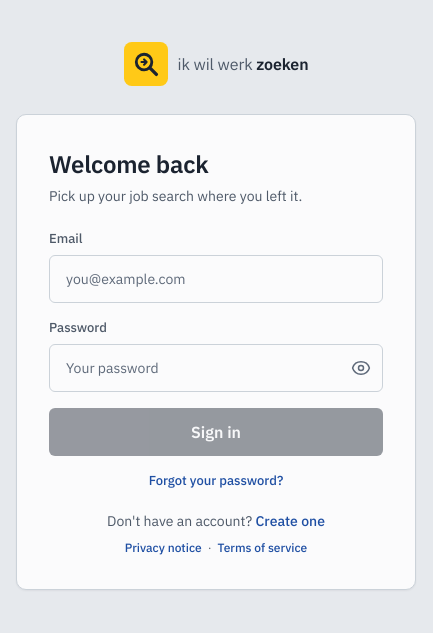
Test: LoginView › shows error message on login failure
Type "a@b.com" into the field labelled "Email".
click(216, 279); type("a@b.com")  # box [49, 255, 383, 303]
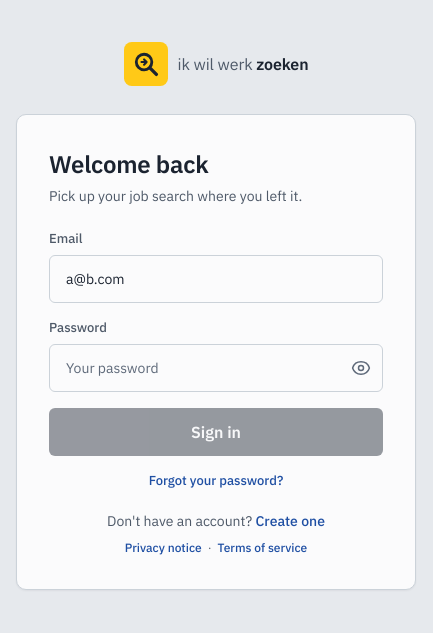
Type "wrong" into the password field with id "login-password".
click(216, 368); type("wrong")  # box [49, 344, 383, 392]
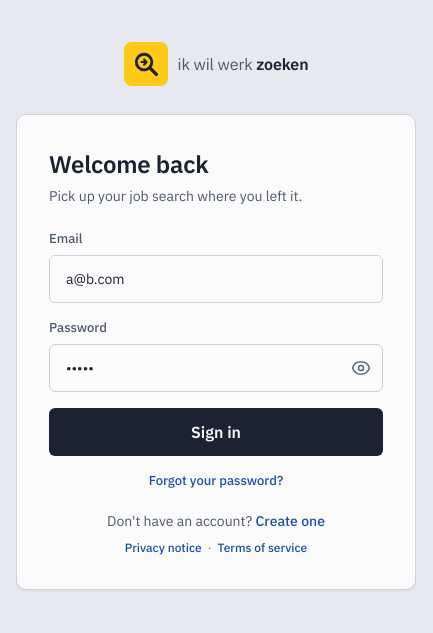
Submit the form, box [49, 230, 383, 491]
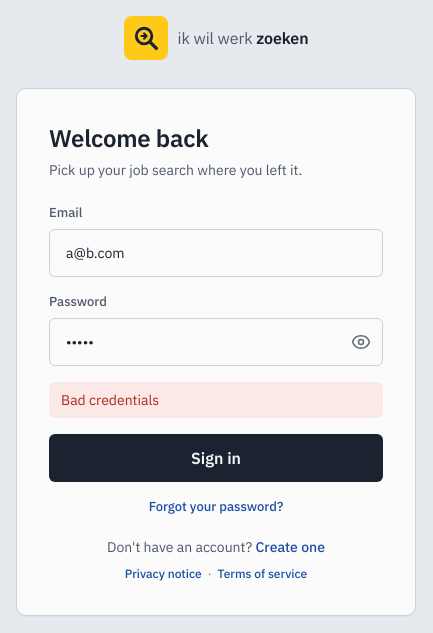
Result: the text "Bad credentials" is shown at [49, 382, 383, 418]
